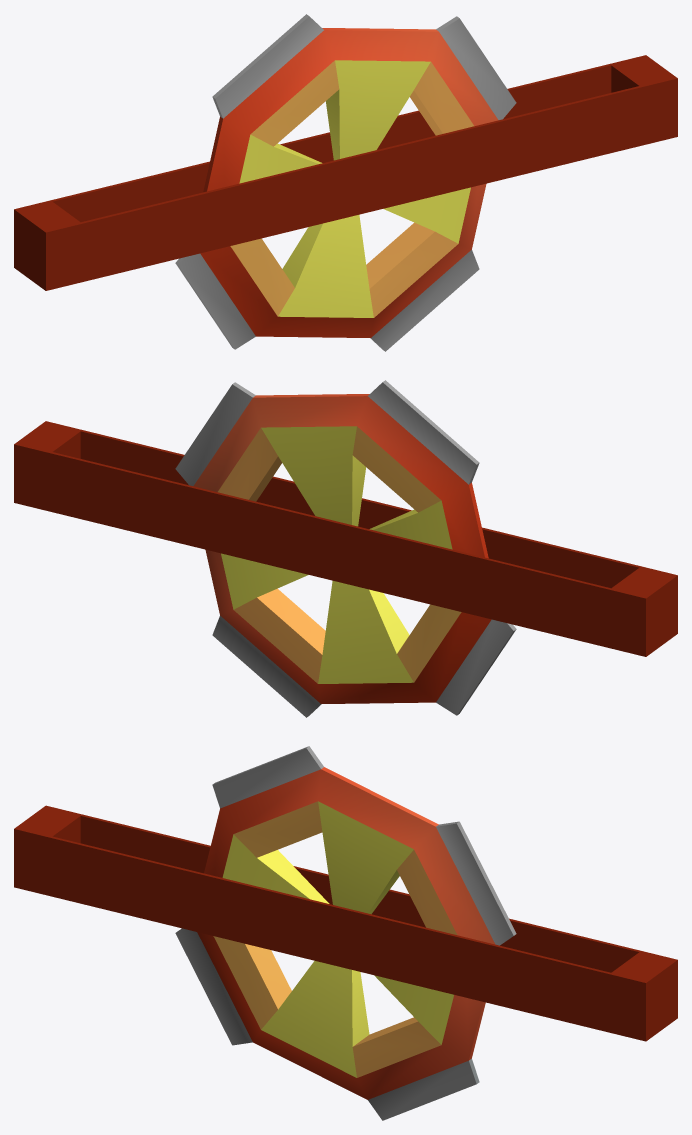
File: razor.fbx
3 renders of one model, top to bottom at view 1: azimuth 30°, elevation 25°; view 2: azimuth 150°, elevation 25°; view 3: azimuth 330°, elevation 25°, orthographic.
Visible parts, largest first — view 1: Razor, Razor space; view 2: Razor, Razor space; view 3: Razor, Razor space.
Boxes of the visible parts, box(x1,y1,x2,y2) form: Razor: box(175, 14, 516, 351); Razor space: box(14, 55, 677, 290); Razor: box(175, 380, 516, 717); Razor space: box(14, 421, 677, 656); Razor: box(175, 746, 516, 1120); Razor space: box(14, 805, 677, 1041).
Size of the model in its own units: 185 by 99.17 by 16.18.
